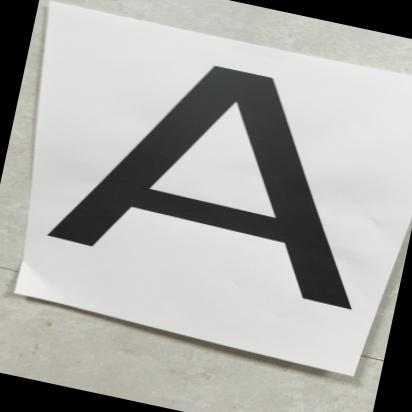seat: (34, 30, 412, 344)
